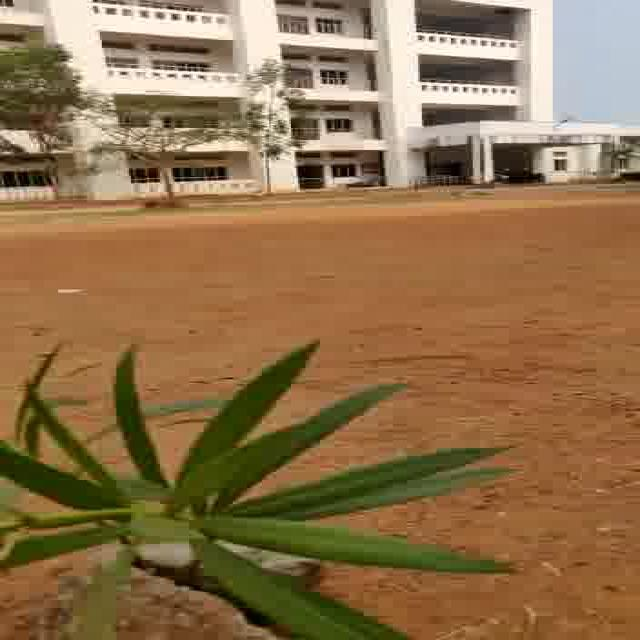Oleander: (27, 347, 543, 640)
